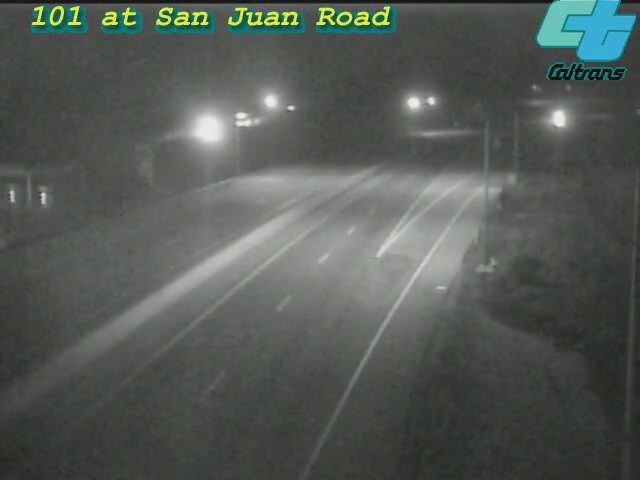vehicle: (534, 95, 584, 145)
